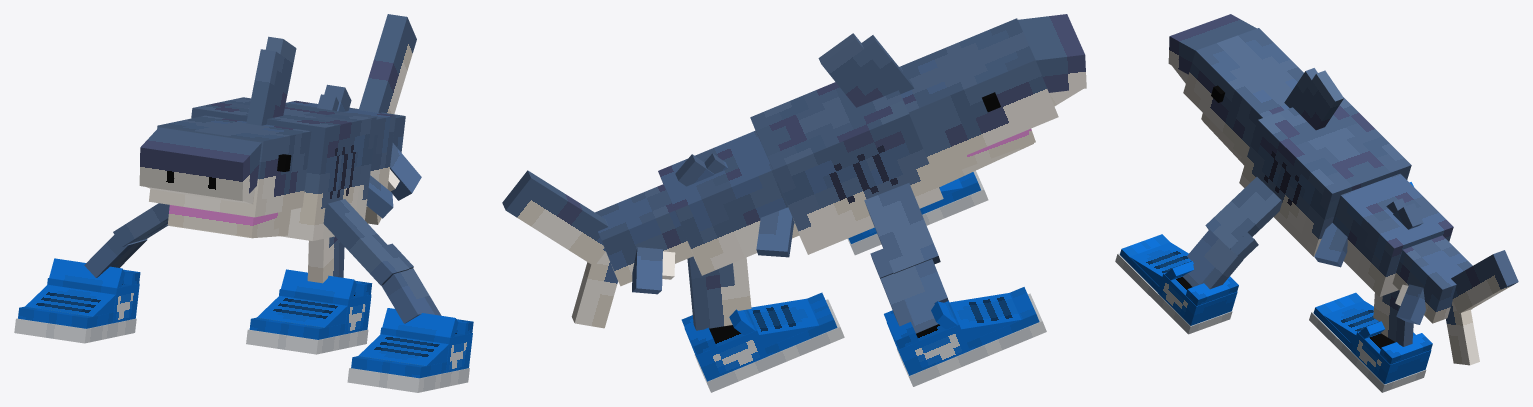
File: 3d_model_tralalero_tralala.glb
3 renders of one model, left to right at view 1: azimuth 30°, elevation 25°; view 2: azimuth 150°, elevation 25°; view 3: azimuth 270°, elevation 25°, orthographic. The views are drawn at different scales.
Visible parts, largest first — view 1: body_0_7, head_62_118, head_60_114, Tail_54_109, left_arm_18_41, mouth_66_126, nike2_11_30, nike_25_56, nike3_42_87, body_under_33_67, sharki_2_12, nike2_15_38 (+20 smaller); view 2: body_0_7, head_60_114, body_under_33_67, tail_body_49_98, Tail_54_109, right_arm_4_15, head_62_118, sharki_1_10, tercera_pierna_38_78, nike3_40_83, nike2_9_26, Tail_55_111 (+22 smaller); view 3: body_0_7, head_60_114, body_under_33_67, tail_body_49_98, left_arm_18_41, Tail_54_109, head_62_118, nike3_40_83, nike_23_52, sharki_1_10, Tail_55_111, nike_25_56 (+17 smaller).
Part boxes in pixels (x1,y1,x2,y2): body_0_7: [191, 97, 376, 240]; head_62_118: [139, 127, 261, 201]; head_60_114: [149, 115, 311, 217]; Tail_54_109: [359, 14, 416, 114]; left_arm_18_41: [323, 199, 409, 285]; mouth_66_126: [167, 205, 290, 237]; nike2_11_30: [25, 284, 115, 316]; nike_25_56: [358, 334, 448, 366]; nike3_42_87: [257, 295, 347, 327]; body_under_33_67: [285, 100, 395, 206]; sharki_2_12: [246, 49, 280, 125]; nike2_15_38: [14, 318, 113, 343]; body_0_7: [750, 82, 943, 254]; head_60_114: [899, 18, 1058, 169]; body_under_33_67: [658, 130, 799, 275]; tail_body_49_98: [595, 184, 693, 286]; Tail_54_109: [502, 170, 608, 265]; right_arm_4_15: [864, 183, 940, 273]; head_62_118: [1018, 14, 1086, 92]; sharki_1_10: [818, 33, 897, 107]; tercera_pierna_38_78: [687, 256, 737, 330]; nike3_40_83: [684, 309, 767, 381]; nike2_9_26: [886, 300, 969, 375]; Tail_55_111: [571, 252, 617, 328]; body_0_7: [1239, 97, 1411, 256]; head_60_114: [1183, 28, 1303, 156]; body_under_33_67: [1332, 173, 1453, 296]; tail_body_49_98: [1392, 235, 1472, 323]; left_arm_18_41: [1205, 177, 1282, 249]; Tail_54_109: [1451, 250, 1518, 313]; head_62_118: [1168, 14, 1256, 74]; nike3_40_83: [1351, 330, 1431, 384]; nike_23_52: [1157, 272, 1237, 325]; sharki_1_10: [1293, 70, 1343, 130]; Tail_55_111: [1446, 301, 1479, 365]; nike_25_56: [1130, 242, 1191, 286].
Size of the model in its own units: 4.54 by 3.17 by 4.24.
Materials: 1 (1 with a texture image).
